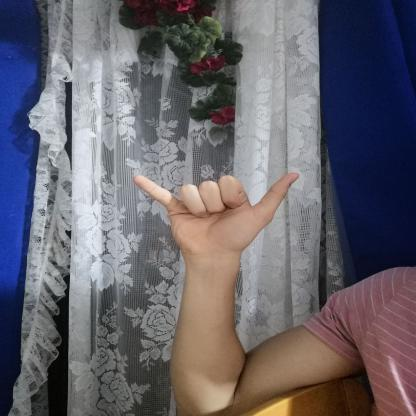YA: (121, 162, 310, 265)
